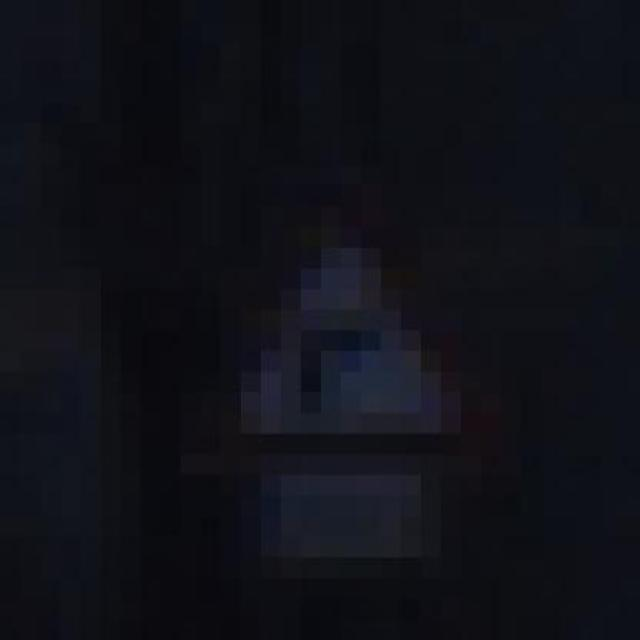Dangerous Rright Curve Ahead: (160, 187, 500, 476)
